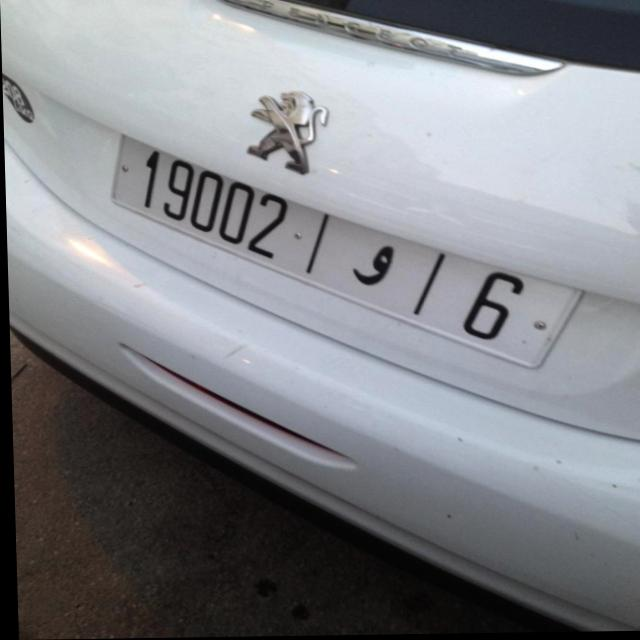License-Plate: (113, 137, 579, 369)
